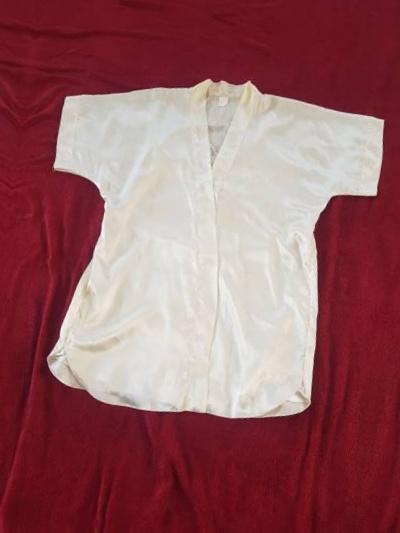Blouse: (8, 38, 396, 459), (388, 96, 400, 518), (0, 0, 6, 400), (78, 0, 400, 1)
